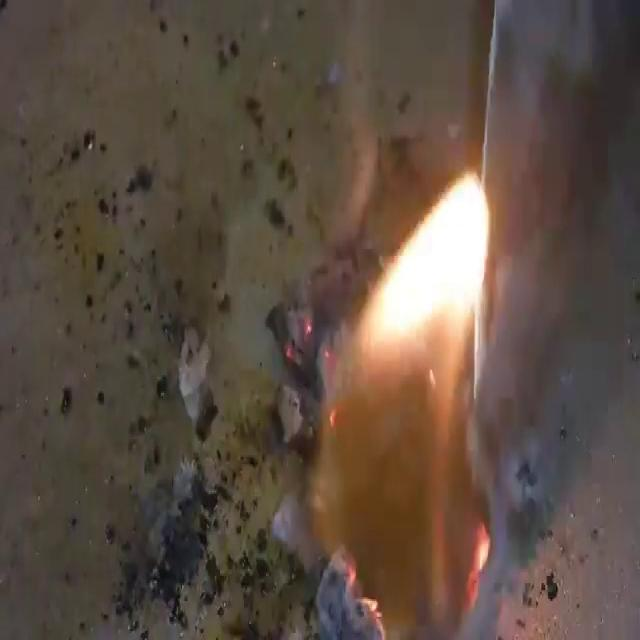Fire: (307, 167, 496, 635), (356, 167, 493, 363)
